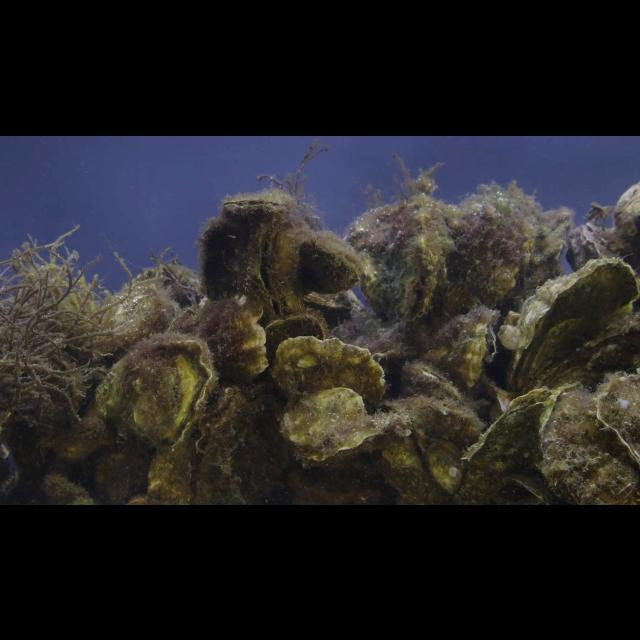Oyster-Closed: (508, 256, 640, 394), (347, 200, 448, 326), (444, 190, 536, 328), (538, 380, 640, 504), (456, 384, 556, 504), (102, 260, 205, 364), (278, 386, 404, 464), (165, 294, 268, 386), (269, 335, 386, 411), (566, 222, 640, 290), (296, 228, 362, 294), (594, 370, 640, 462), (404, 358, 462, 402)
Oyster-Open: (100, 332, 216, 452), (202, 194, 288, 324), (186, 382, 274, 504), (425, 304, 497, 394)
